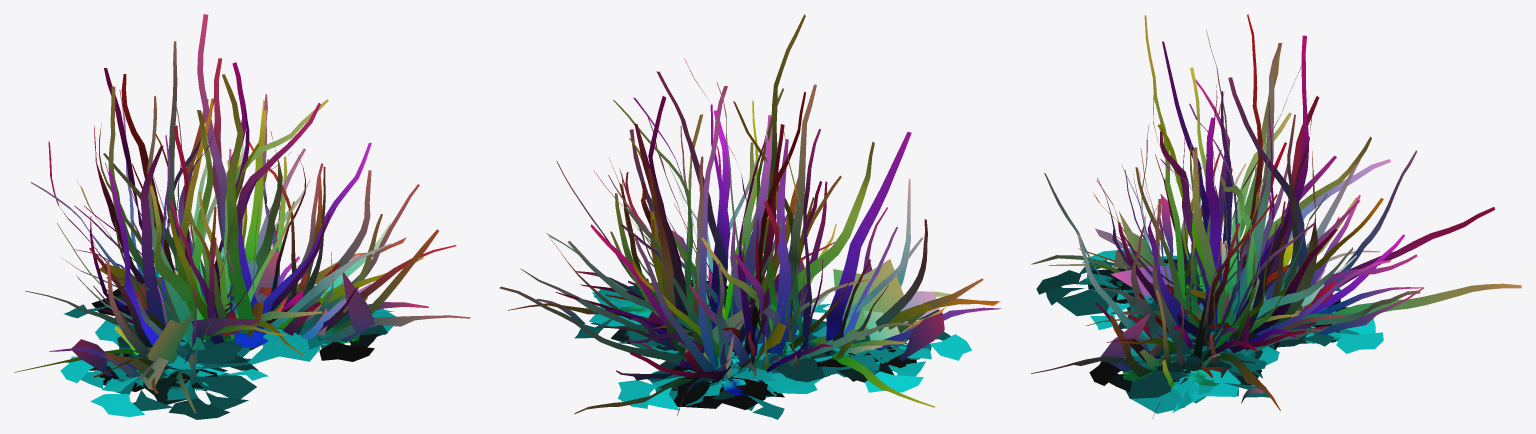
Rendered from Wild_Grass_vczndjqja_High_vczndjqja_VarG_LOD0.fbx.
The picture shows the model from 3 angles, left to right: view 1: azimuth 30°, elevation 25°; view 2: azimuth 150°, elevation 25°; view 3: azimuth 270°, elevation 25°; orthographic projection. The views are drawn at different scales.
Parts seen in each view (by area): view 1: _ruzo_VarG_LOD0; view 2: _ruzo_VarG_LOD0; view 3: _ruzo_VarG_LOD0.
Part boxes in pixels (bbox=[...]): _ruzo_VarG_LOD0: bbox=[14, 14, 470, 419]; _ruzo_VarG_LOD0: bbox=[499, 14, 1001, 419]; _ruzo_VarG_LOD0: bbox=[1031, 14, 1521, 418].
Size of the model in its own units: 118 by 85.61 by 123.
